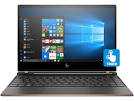laptop: (9, 3, 130, 94)
